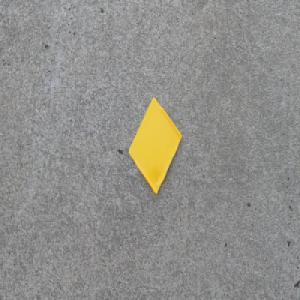PlasticPart: (128, 96, 182, 196)
